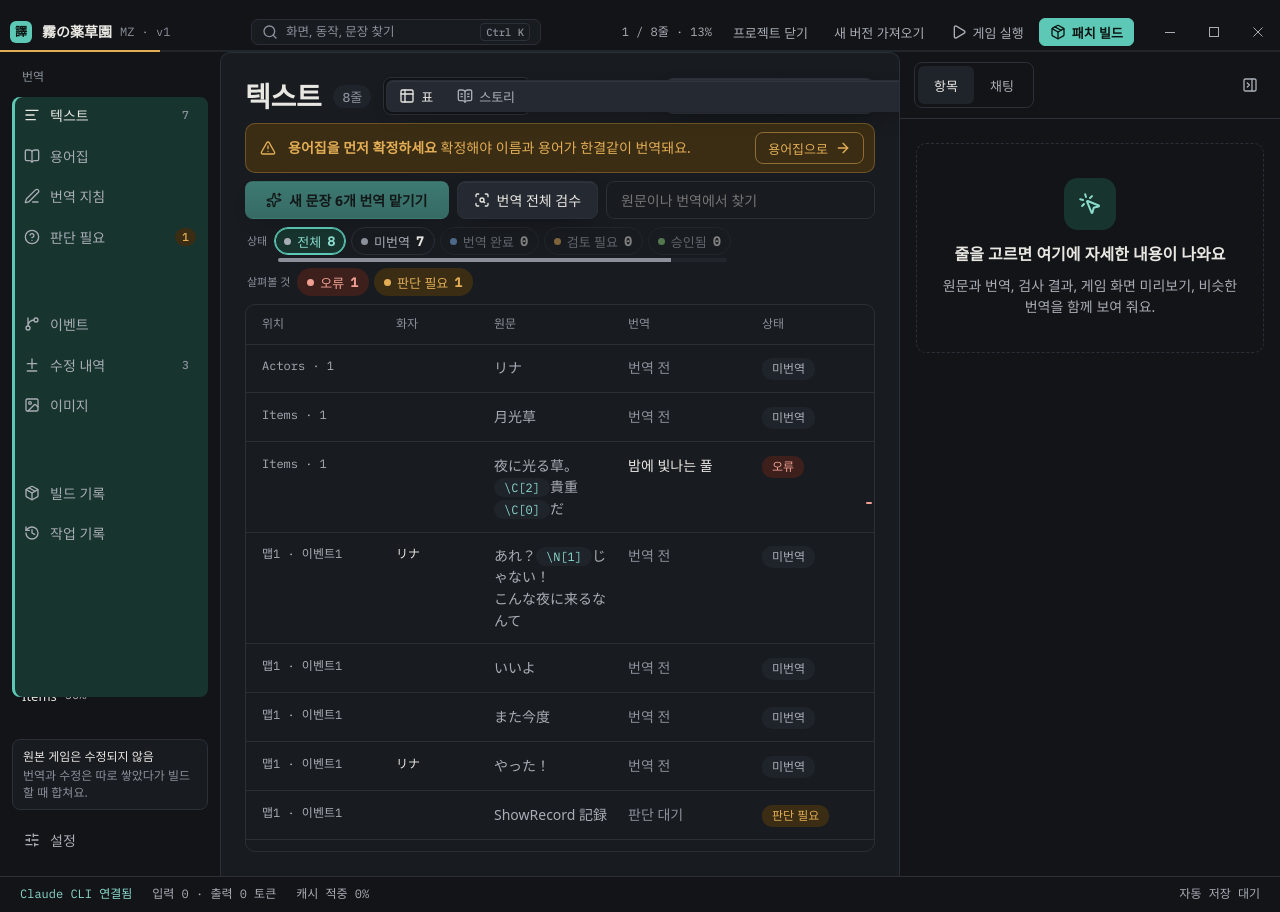
Test: 사이드바에 수정 수, 목록에 세 가지 상태 칩과 충돌 이유
Expected: the text "霧の薬草園" is shown, top-left (42, 21), bottom-right (112, 43)
Click the button "수정 내역 3" at (110, 365), box top-left (12, 346), bottom-right (208, 383)
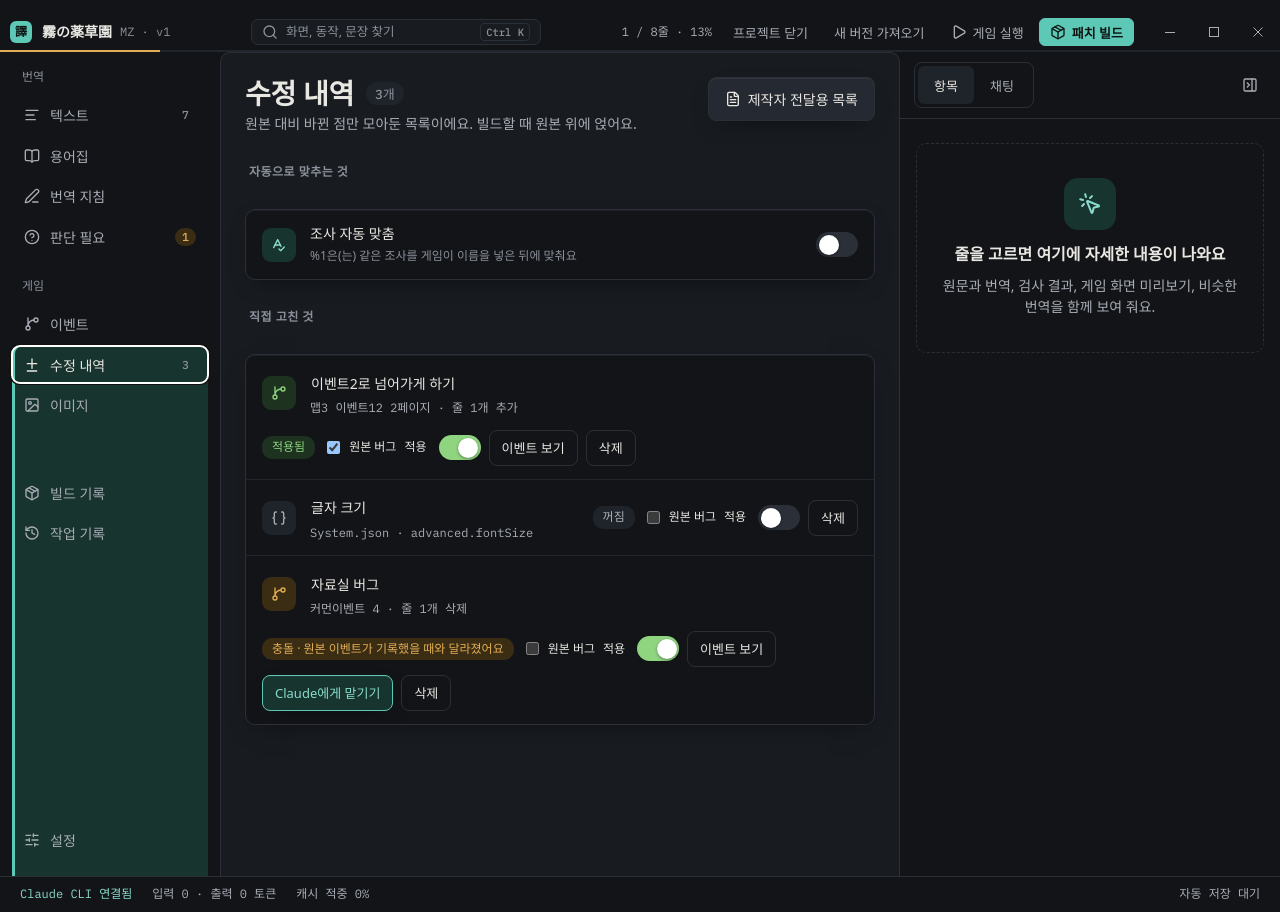
Expected: the heading "수정 내역" is shown, top-left (245, 77), bottom-right (354, 109)
Expected: the text "적용됨" is shown, top-left (262, 436), bottom-right (315, 459)
Expected: the text "맵3 이벤트12 2페이지 · 줄 1개 추가" is shown, top-left (310, 400), bottom-right (518, 415)
